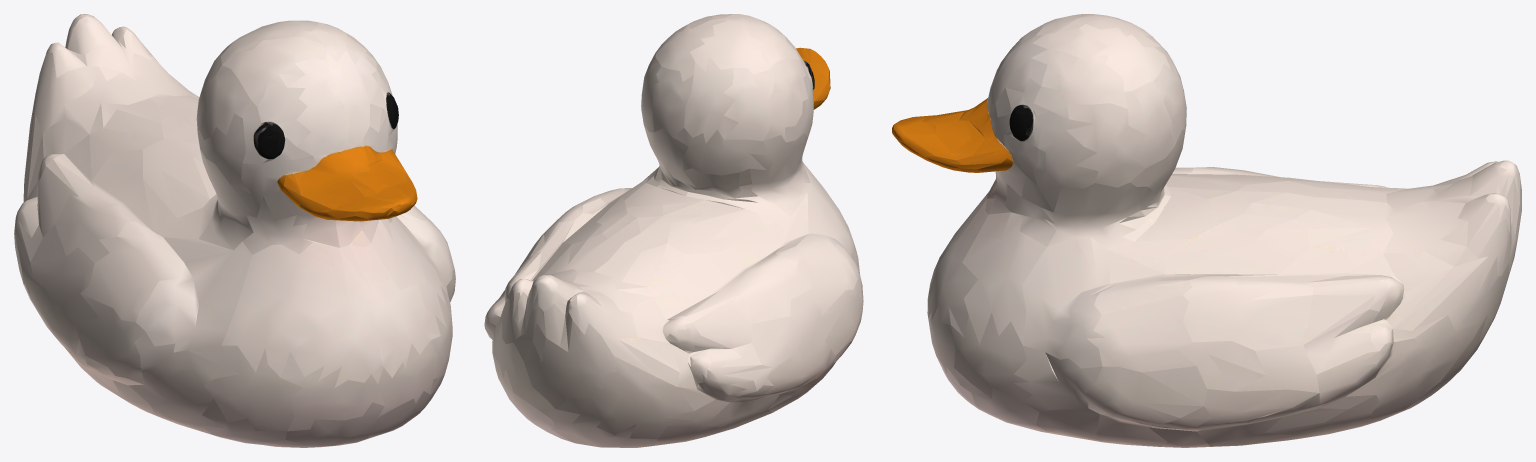
Rendered from duck.glb.
The picture shows the model from 3 angles, left to right: view 1: azimuth 30°, elevation 25°; view 2: azimuth 150°, elevation 25°; view 3: azimuth 270°, elevation 25°; orthographic projection. The views are drawn at different scales.
Bounding box in the file's own units: 0.3392 × 0.35 × 0.5542.
Materials: 1 (1 with a texture image).
